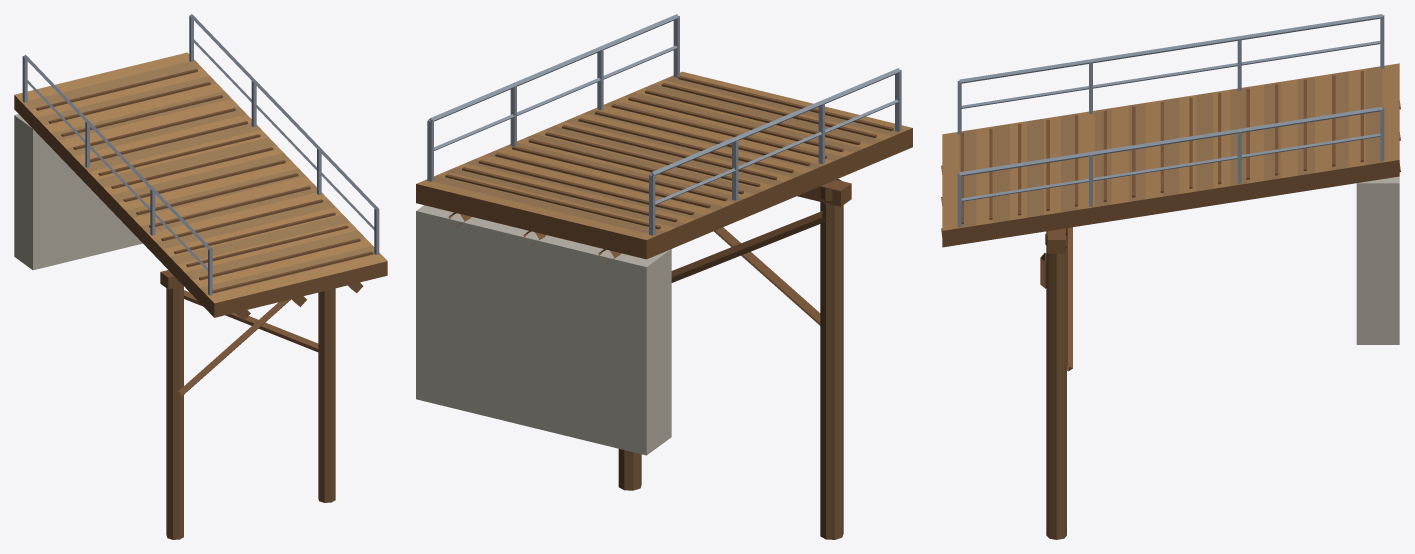
Rendered from pier_ramp.glb.
The picture shows the model from 3 angles, left to right: view 1: azimuth 30°, elevation 25°; view 2: azimuth 150°, elevation 25°; view 3: azimuth 270°, elevation 25°; orthographic projection. The views are drawn at different scales.
Parts seen in each view (by area): view 1: Building, Building_Detail; view 2: Building, Building_Detail; view 3: Building, Building_Detail.
Part boxes in pixels (x1=…): Building: x1=14, y1=52, x2=387, y2=539; Building_Detail: x1=22, y1=14, x2=379, y2=295; Building: x1=416, y1=71, x2=912, y2=539; Building_Detail: x1=427, y1=14, x2=901, y2=235; Building: x1=941, y1=63, x2=1400, y2=539; Building_Detail: x1=957, y1=14, x2=1384, y2=227.
Size of the model in its own units: 4 by 8.36 by 8.05.
